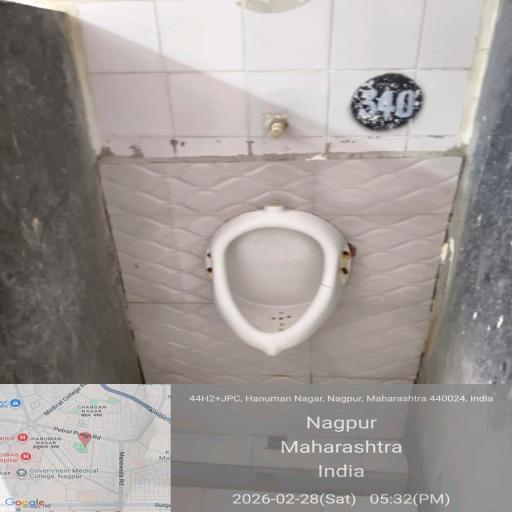clean_floor: (58, 8, 512, 210), (91, 325, 470, 512)
clean_urinal: (216, 207, 386, 358)
